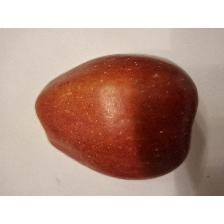Apfel: (29, 51, 203, 181)
